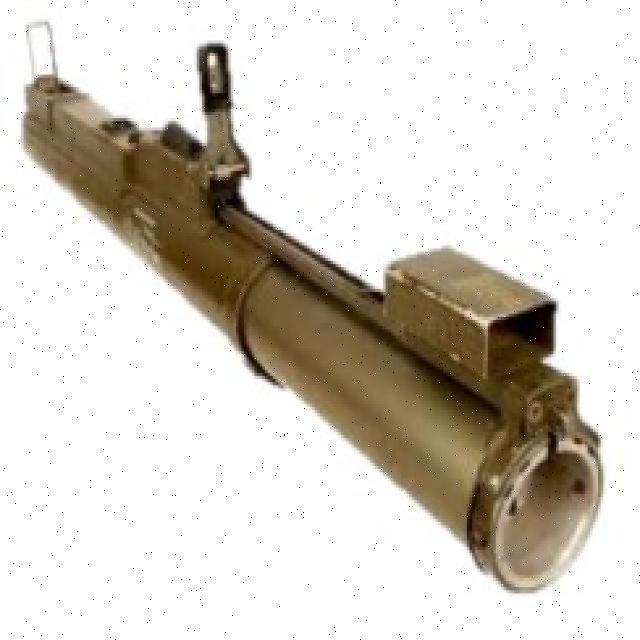bazooka: (14, 10, 614, 605)
